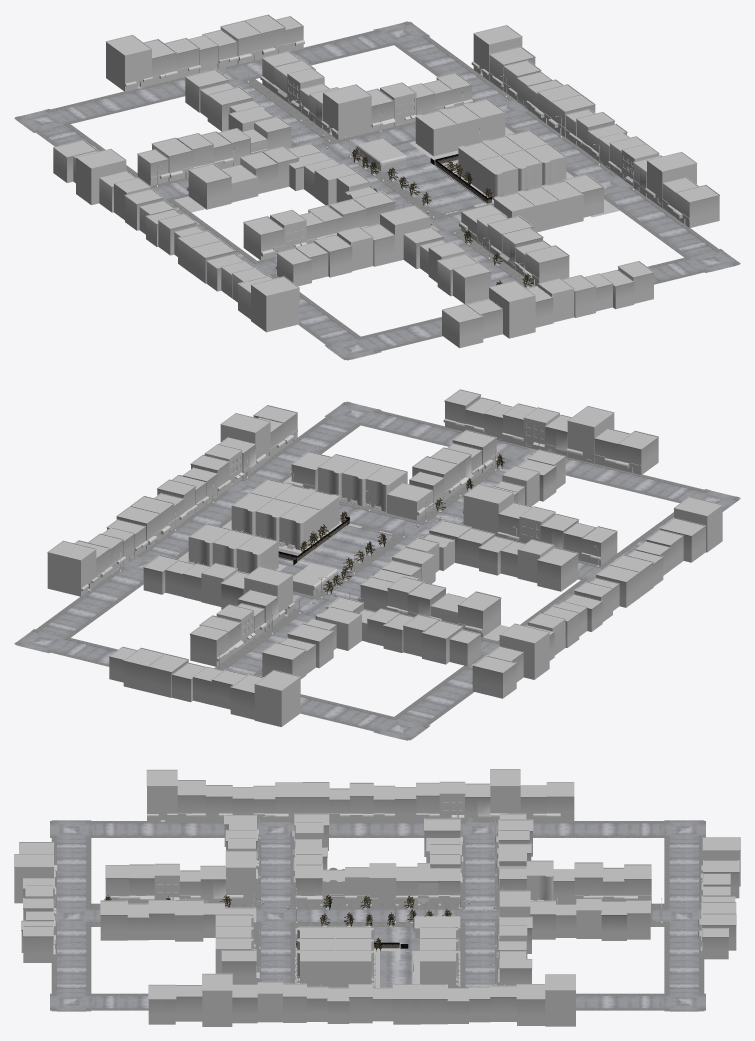
The model's file is Pizzeria_Scene.dae.
3 views of the same model, one above another, from view 1: azimuth 30°, elevation 25°; view 2: azimuth 150°, elevation 25°; view 3: azimuth 270°, elevation 25° (orthographic).
Parts seen in each view (by area): view 1: Road.009, Road.012, Road.002, Road.010, Road.006, building_16.003, building_16.001, building_16.004, building_08.004, building_08.003, building_15.003, building_03.005 (+89 smaller); view 2: Road.009, Road.012, Road.002, Road.010, building_16.002, building_16.004, Road.006, building_08.004, building_08.003, building_08.001, building_18.011, building_03.008 (+89 smaller); view 3: Road.009, Road.012, Road.002, Road.010, Road.005, Road.007, building_08.002, building_16.003, building_16.002, building_08.001, Road.008, building_08.003 (+94 smaller).
Boxes of the visible parts, x1,y1,x2,y2 form: Road.009: [273, 189, 740, 360]; Road.012: [14, 21, 510, 185]; Road.002: [337, 127, 573, 217]; Road.010: [335, 97, 634, 231]; Road.006: [217, 66, 336, 147]; building_16.003: [250, 276, 301, 332]; building_16.001: [321, 84, 371, 139]; building_16.004: [105, 34, 152, 91]; building_08.004: [488, 280, 535, 338]; building_08.003: [76, 148, 126, 205]; building_15.003: [187, 163, 231, 209]; building_03.005: [415, 110, 457, 156]; Road.009: [245, 401, 740, 565]; Road.012: [14, 569, 481, 740]; Road.002: [178, 520, 413, 600]; Road.010: [118, 476, 419, 611]; building_16.002: [47, 540, 98, 596]; building_16.004: [254, 670, 301, 726]; Road.006: [214, 611, 315, 676]; building_08.004: [566, 406, 614, 463]; building_08.003: [499, 623, 549, 679]; building_08.001: [463, 484, 513, 536]; building_18.011: [472, 655, 516, 698]; building_03.008: [278, 504, 321, 550]; Road.009: [50, 820, 253, 1011]; Road.012: [533, 820, 705, 1011]; Road.002: [297, 903, 458, 987]; Road.010: [253, 925, 499, 987]; Road.005: [460, 822, 499, 906]; Road.007: [256, 822, 295, 906]; building_08.002: [202, 973, 232, 1026]; building_16.003: [146, 769, 177, 822]; building_16.002: [545, 974, 575, 1026]; building_08.001: [225, 851, 256, 903]; Road.008: [329, 822, 424, 837]; building_08.003: [490, 769, 520, 822].
Size of the model in its own units: 242 by 335 by 18.62.
